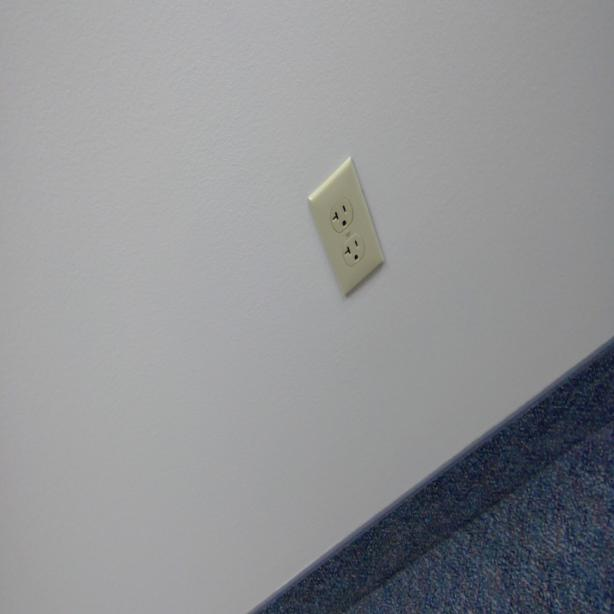typeb: (330, 195, 354, 226), (341, 234, 364, 265)
